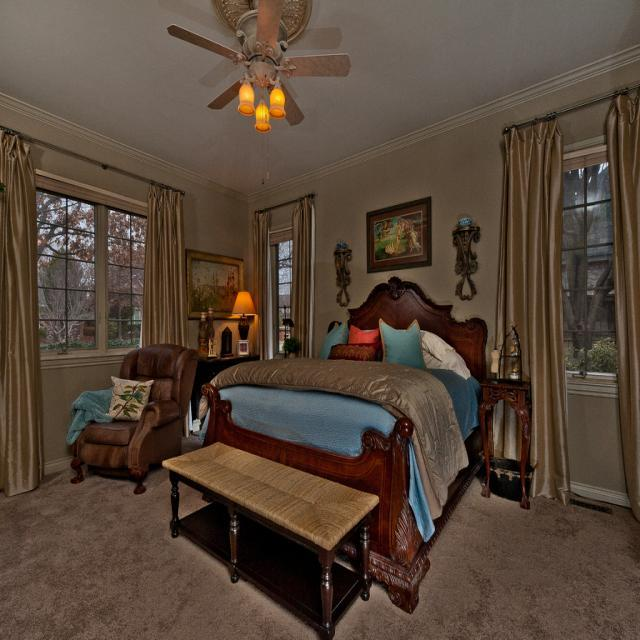fan_off: (167, 0, 355, 123)
